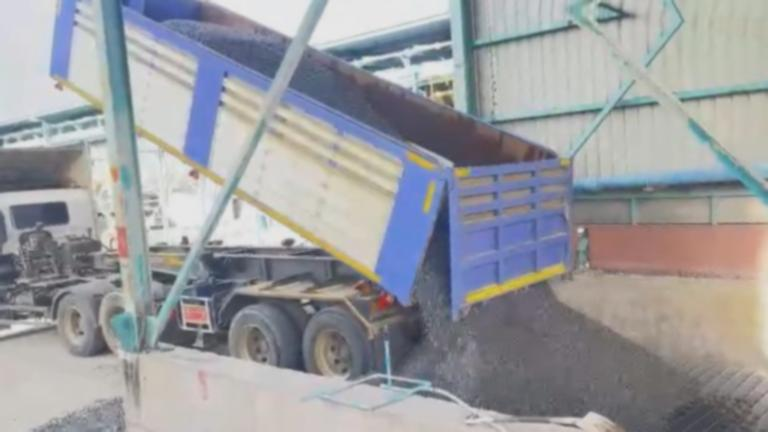gravel: (398, 221, 695, 432), (291, 53, 401, 137), (163, 19, 289, 77), (18, 398, 142, 432)
